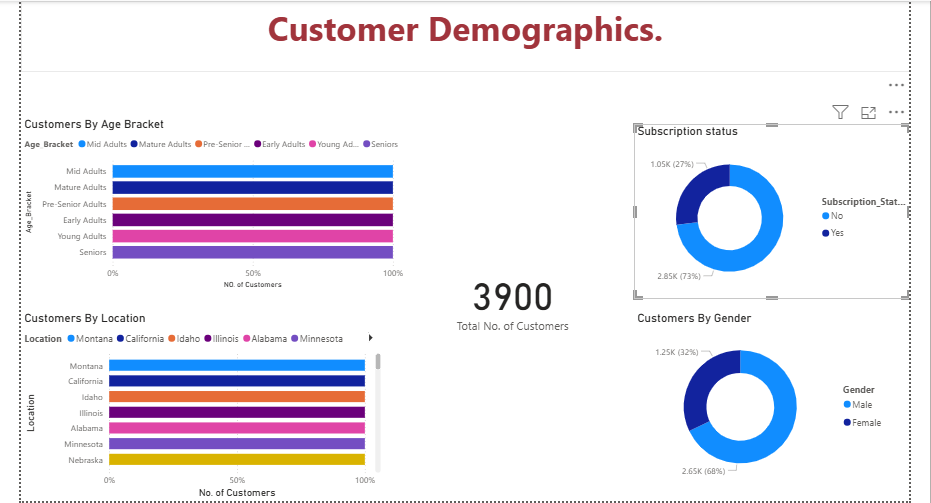

What the dashboard file says about the page in this screenshot:
{"tool":"powerbi","page":{"name":"Page 1","canvas":[1280,720],"ordinal":0},"visuals":[{"type":"card","fields":{"Values":["CountNonNull(shopping_behavior_updated (1)(working sheet).Customer_ID)"]},"box":[568.1,289.4,278.7,280.4],"z":0},{"type":"donutChart","title":"Customers By Gender","fields":{"Category":["shopping_behavior_updated (1)(working sheet).Gender"],"Y":["CountNonNull(shopping_behavior_updated (1)(working sheet).Customer_ID)"]},"box":[882.7,445.8,372.1,257.1],"z":1000},{"type":"hundredPercentStackedBarChart","title":"Customers By Age Bracket","fields":{"Category":["shopping_behavior_updated (1)(working sheet).Age_Bracket"],"Y":["CountNonNull(shopping_behavior_updated (1)(working sheet).Customer_ID)"],"Series":["shopping_behavior_updated (1)(working sheet).Age_Bracket"]},"box":[0,167.2,555.5,251.7],"z":2000},{"type":"hundredPercentStackedBarChart","title":"Customers By Location","fields":{"Category":["shopping_behavior_updated (1)(working sheet).Location"],"Y":["CountNonNull(shopping_behavior_updated (1)(working sheet).Customer_ID)"],"Series":["shopping_behavior_updated (1)(working sheet).Location"]},"box":[0,445.8,523.1,275.1],"z":3000},{"type":"donutChart","title":"Subscription status","fields":{"Category":["shopping_behavior_updated (1)(working sheet).Subscription_Status"],"Y":["CountNonNull(shopping_behavior_updated (1)(working sheet).Customer_ID)"]},"box":[882.7,177.1,397.4,252],"z":4000},{"type":"textbox","box":[0,0,1280,102.5],"z":5000}]}

Visuals, with their boxes on the page's 1280x720 design canvas (x1, y1, x2, y2). These are canvas units, not pixel positions in the 931x503 screenshot, which may show the page scaled, cropped or inside an application window:
card - CountNonNull(shopping_behavior_updated (1)(working sheet).Customer_ID): 568, 289, 847, 570
"Customers By Gender" donutChart: 883, 446, 1255, 703
"Customers By Age Bracket" hundredPercentStackedBarChart: 0, 167, 556, 419
"Customers By Location" hundredPercentStackedBarChart: 0, 446, 523, 721
"Subscription status" donutChart: 883, 177, 1280, 429
textbox: 0, 0, 1280, 102
